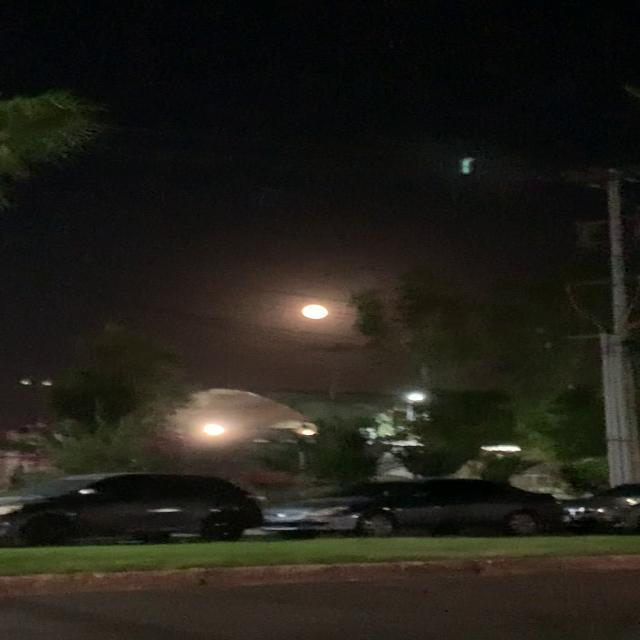moon: (298, 300, 333, 319)
